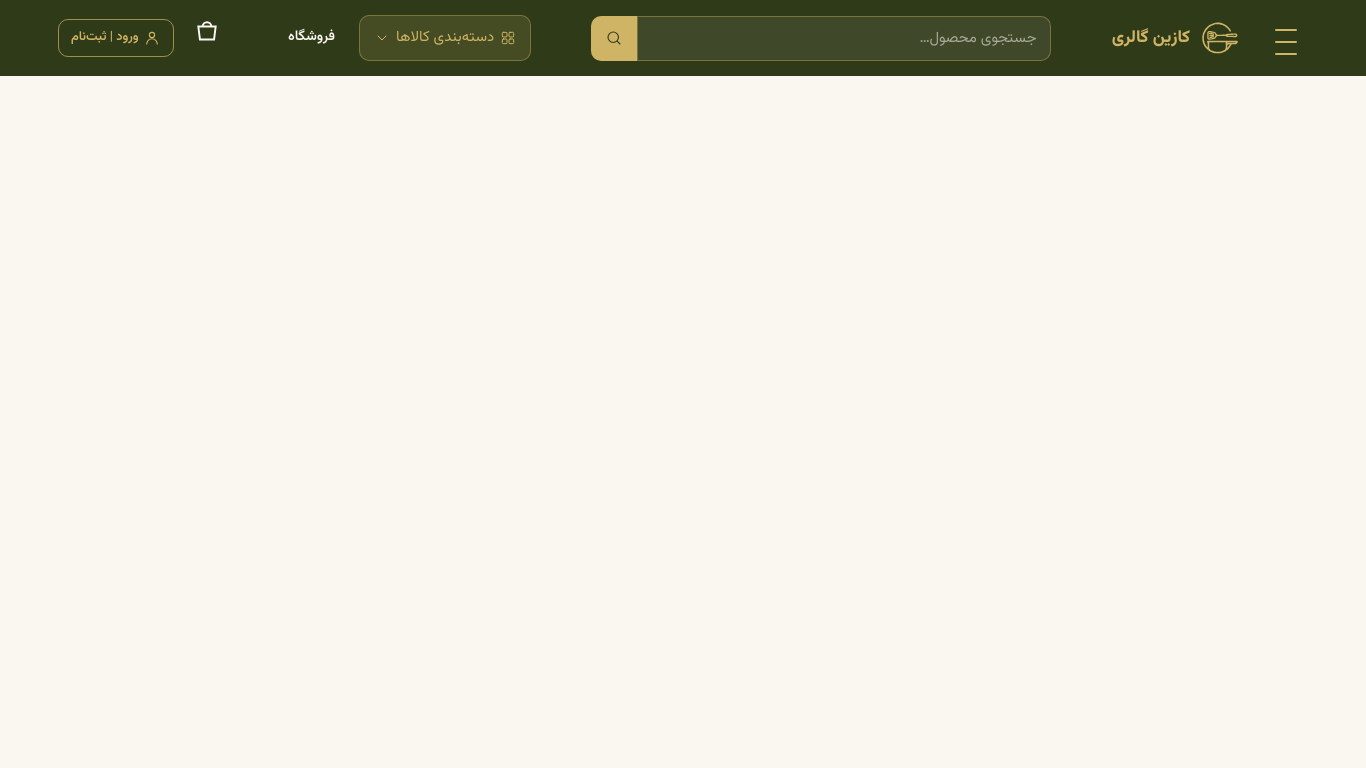
mega menu › closes when the dimmed page overlay is clicked
This screenshot has width=1366, height=768.
Hover over the element "دسته‌بندی کالاها" at (445, 38), box [359,15,531,61]
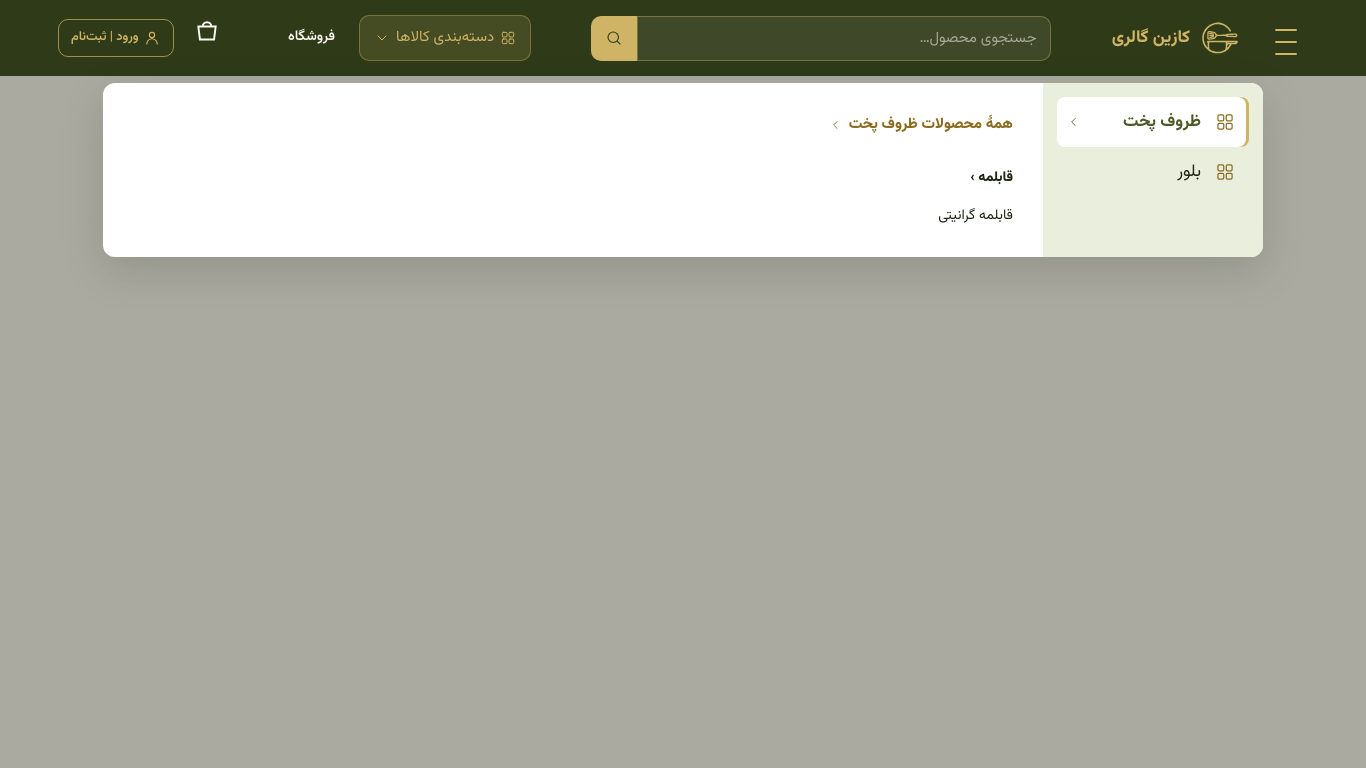
Now the element with class "mega-menu" is shown, box [103,75,1263,257]
Now the element with class "mega-menu__overlay" is shown
Click the element with class "mega-menu__overlay" at (683, 422), box [0,76,1365,767]
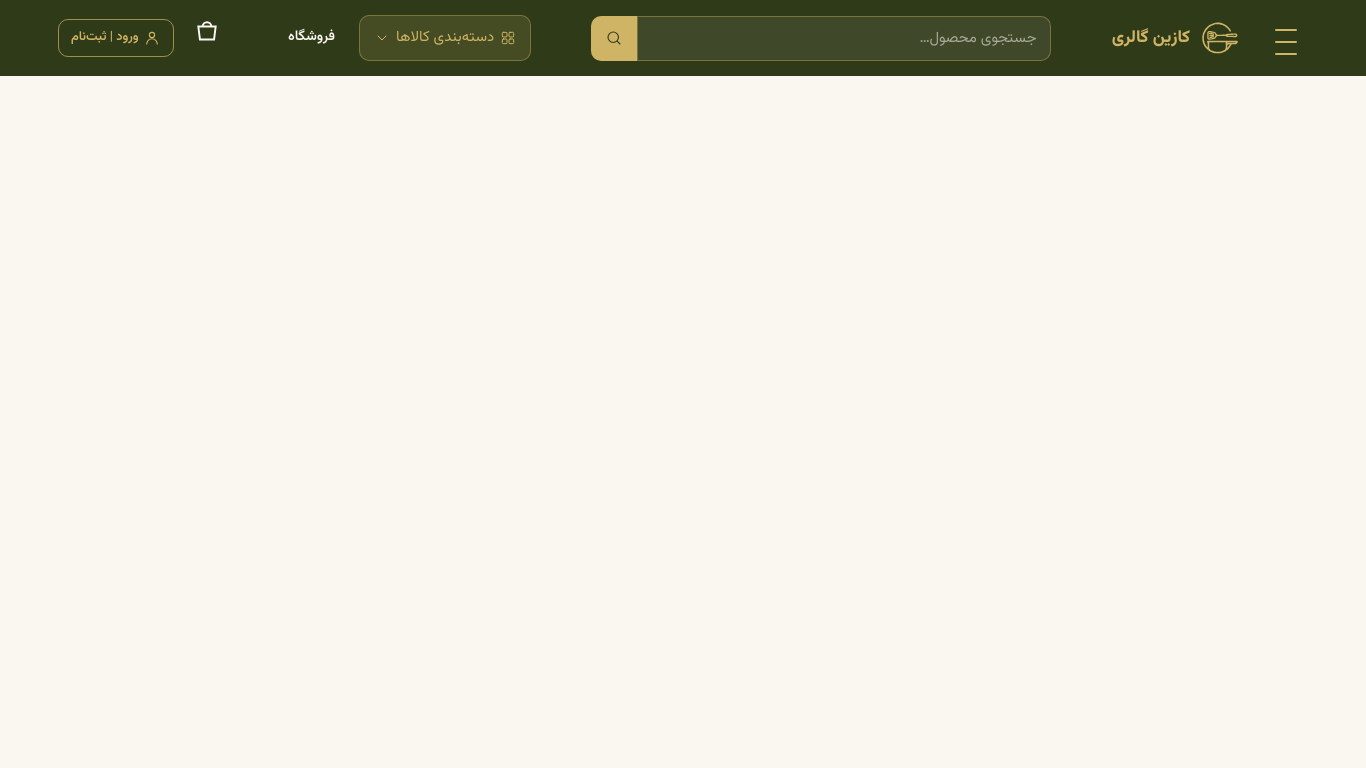
Now the element with class "mega-menu" is gone
